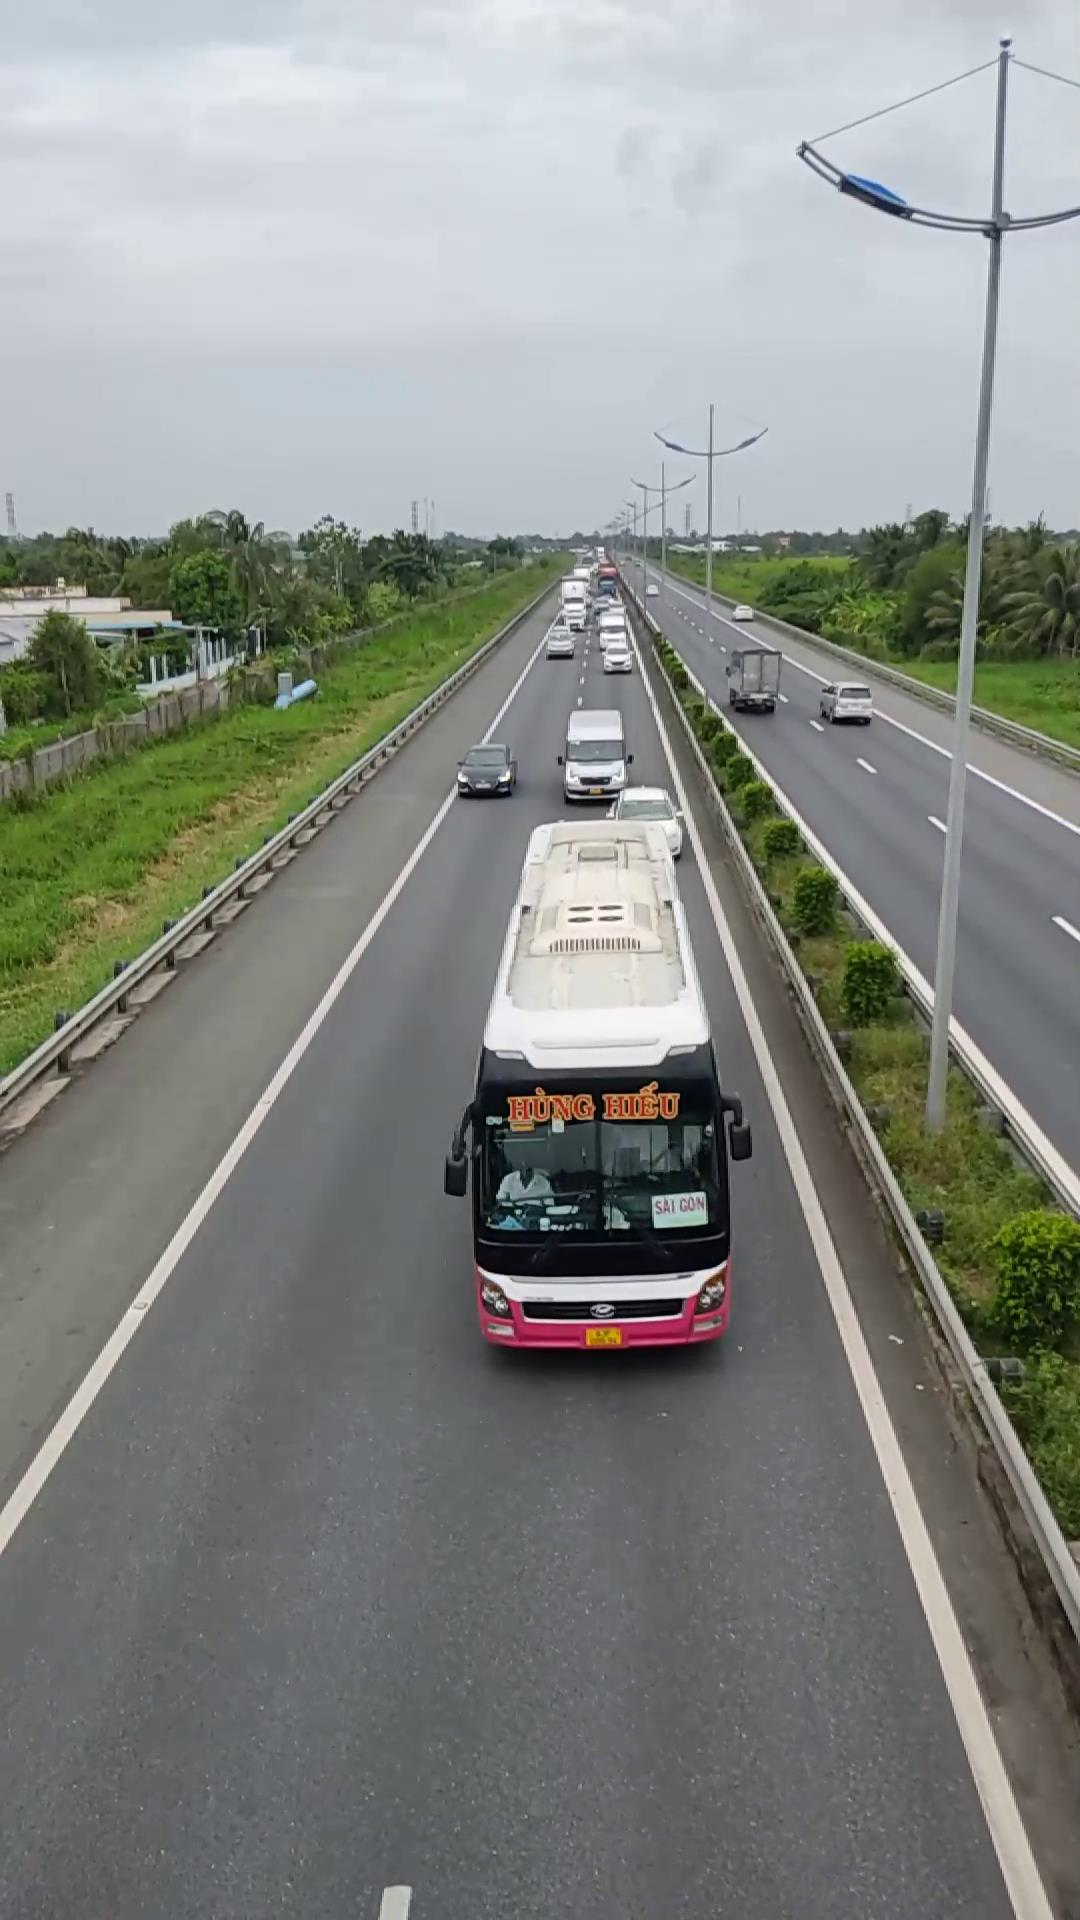bus: (448, 799, 752, 1352)
car: (556, 708, 632, 804)
